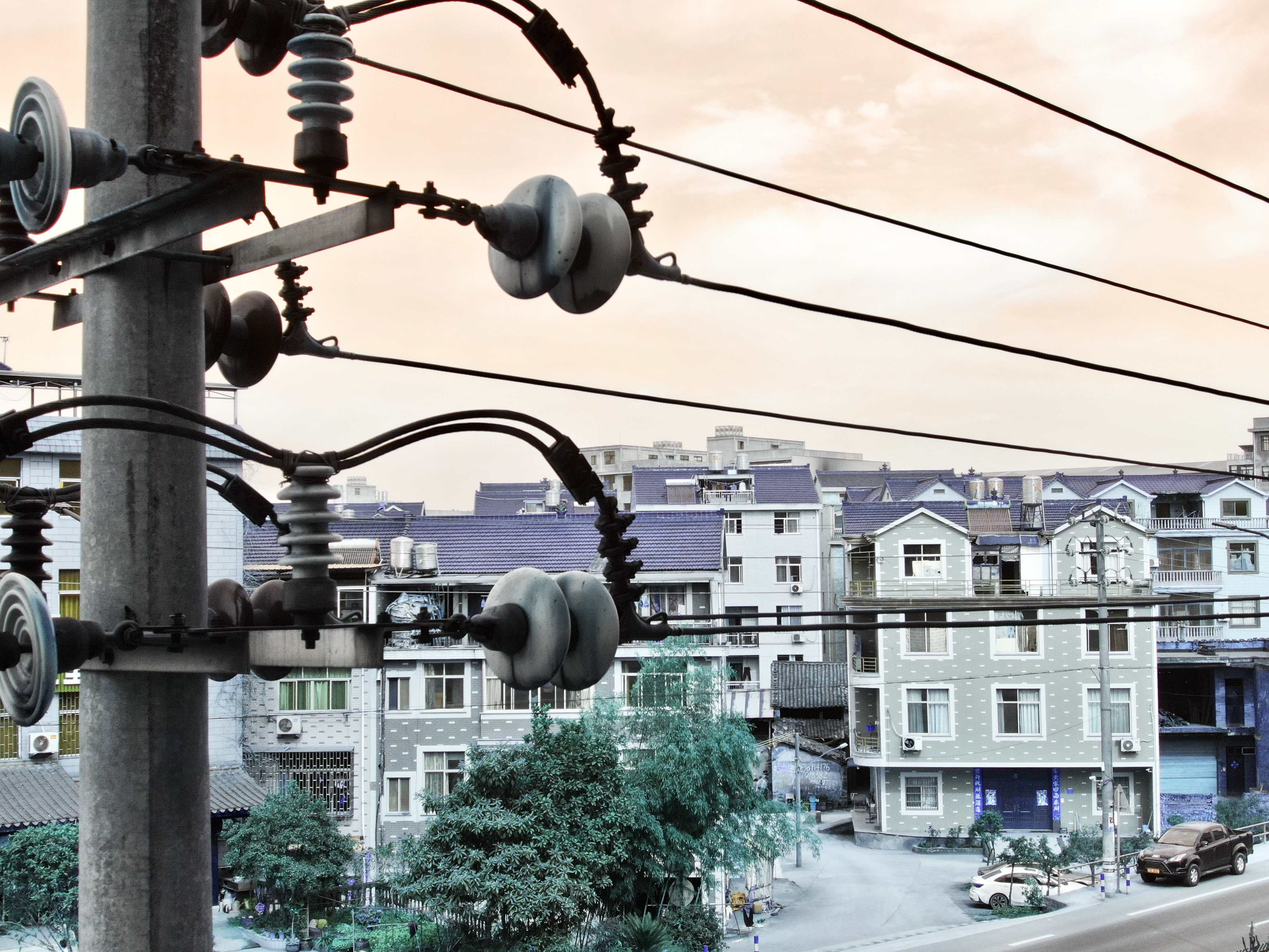severe_soiling_no_discharge_whole: (469, 165, 639, 322), (460, 561, 628, 696), (2, 71, 133, 240), (1, 569, 113, 736)
